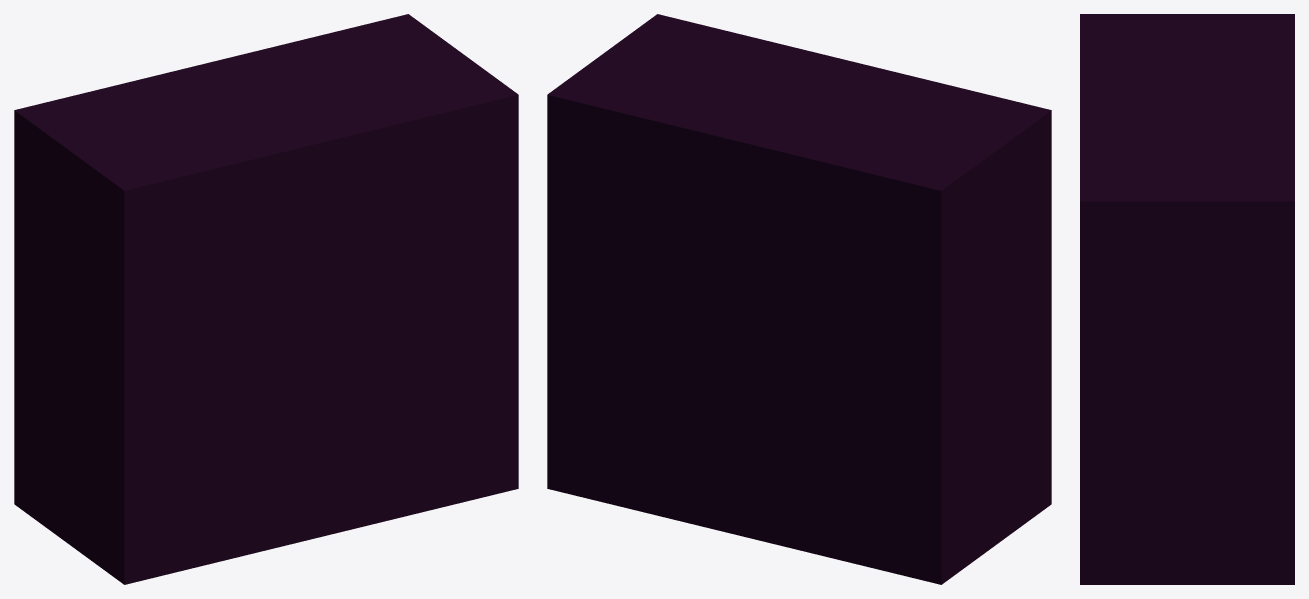
The model's file is leg-4.FBX.
3 renders of one model, left to right at view 1: azimuth 30°, elevation 25°; view 2: azimuth 150°, elevation 25°; view 3: azimuth 270°, elevation 25°, orthographic. The views are drawn at different scales.
Parts seen in each view (by area): view 1: Box051; view 2: Box051; view 3: Box051.
Part boxes in pixels (x1,y1,x2,y2): Box051: [14, 14, 518, 584]; Box051: [547, 14, 1051, 584]; Box051: [1080, 14, 1294, 584].
Bounding box in the file's own units: 1.66 × 1.58 × 0.8032.
